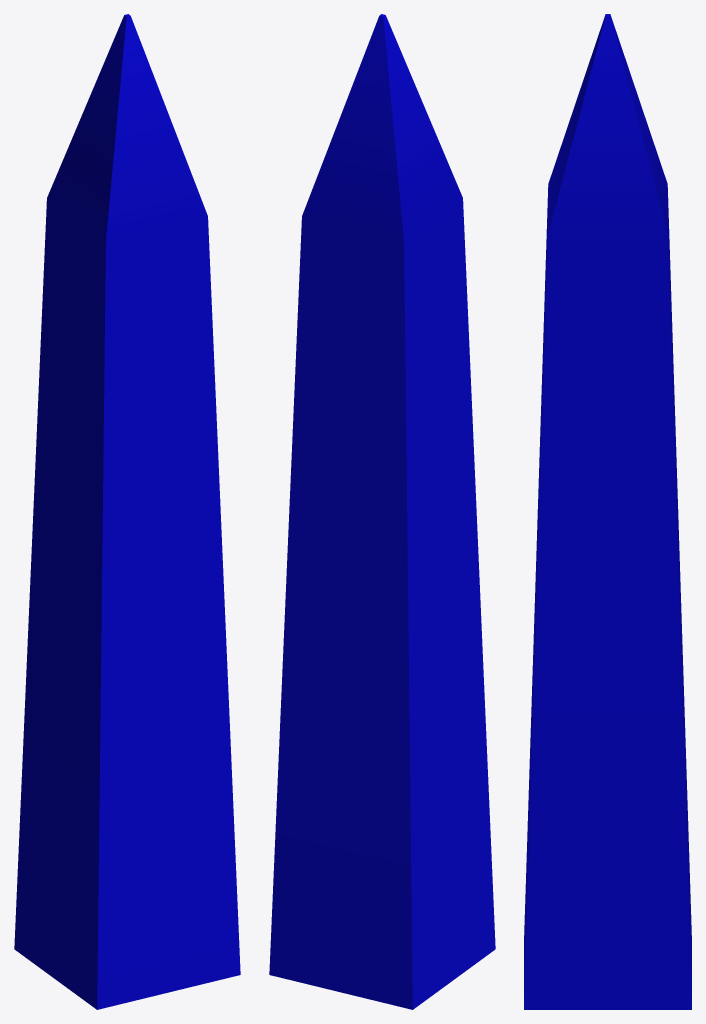
Rendered from obeliskStatue.fbx.
3 views of the same model, side by side, from view 1: azimuth 30°, elevation 25°; view 2: azimuth 150°, elevation 25°; view 3: azimuth 270°, elevation 25° (orthographic).
Visible parts, largest first — view 1: obeliskStatue:pCube1; view 2: obeliskStatue:pCube1; view 3: obeliskStatue:pCube1.
Boxes of the visible parts, x1,y1,x2,y2 form: obeliskStatue:pCube1: (14, 14, 240, 1009); obeliskStatue:pCube1: (269, 14, 495, 1009); obeliskStatue:pCube1: (524, 14, 691, 1009).
Bounding box in the file's own units: 1.41 × 8.86 × 1.41.
